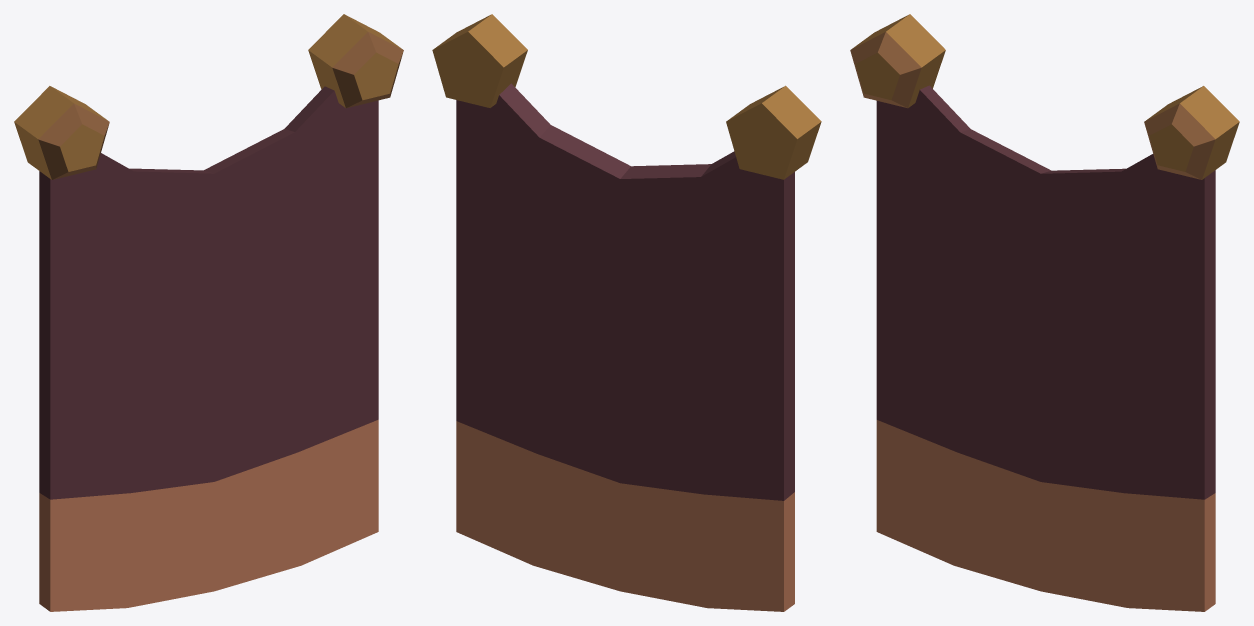
File: SM_Banner_Empire_Small.fbx
The picture shows the model from 3 angles, left to right: view 1: azimuth 30°, elevation 25°; view 2: azimuth 150°, elevation 25°; view 3: azimuth 330°, elevation 25°; orthographic projection.
Visible parts, largest first — view 1: SM_Banner_Empire_Small; view 2: SM_Banner_Empire_Small; view 3: SM_Banner_Empire_Small.
Part boxes in pixels (<box>): SM_Banner_Empire_Small: <box>14,14,403,611</box>; SM_Banner_Empire_Small: <box>432,14,821,611</box>; SM_Banner_Empire_Small: <box>850,14,1239,611</box>.
Size of the model in its own units: 0.9072 by 1.25 by 0.1393.
